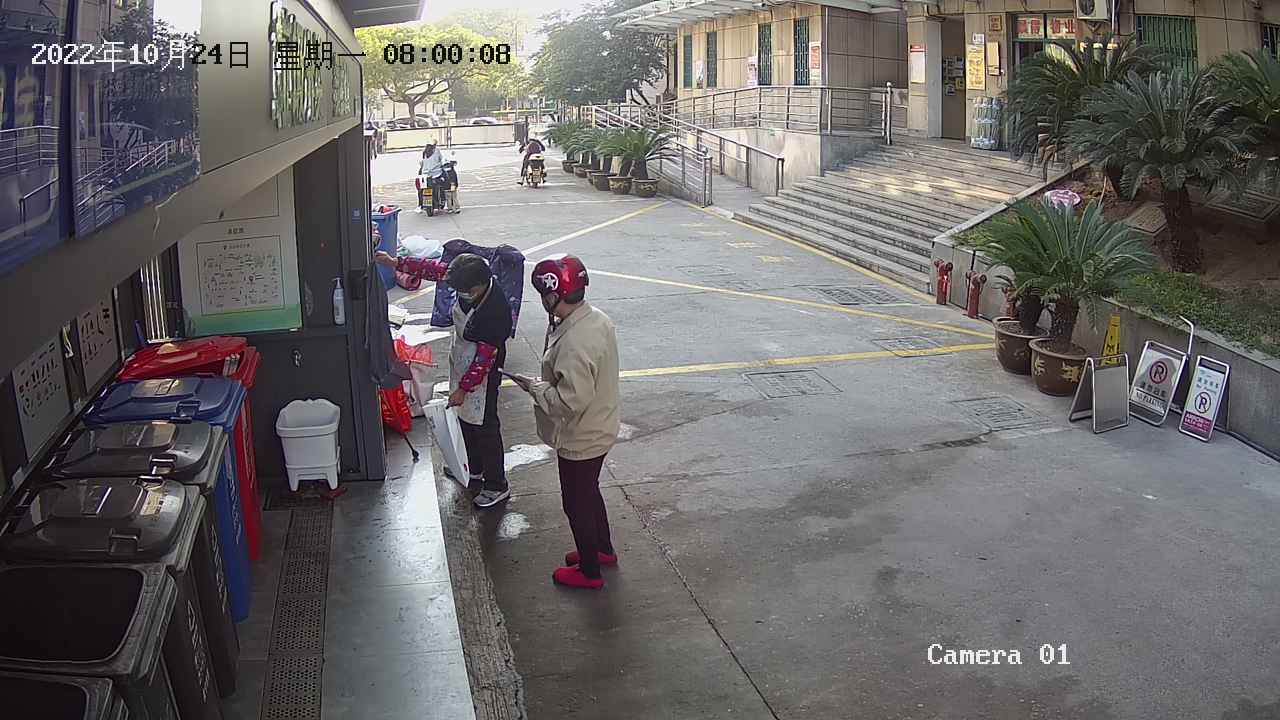garbage-bag: (420, 396, 475, 492)
person: (494, 249, 627, 599), (369, 244, 520, 511)
